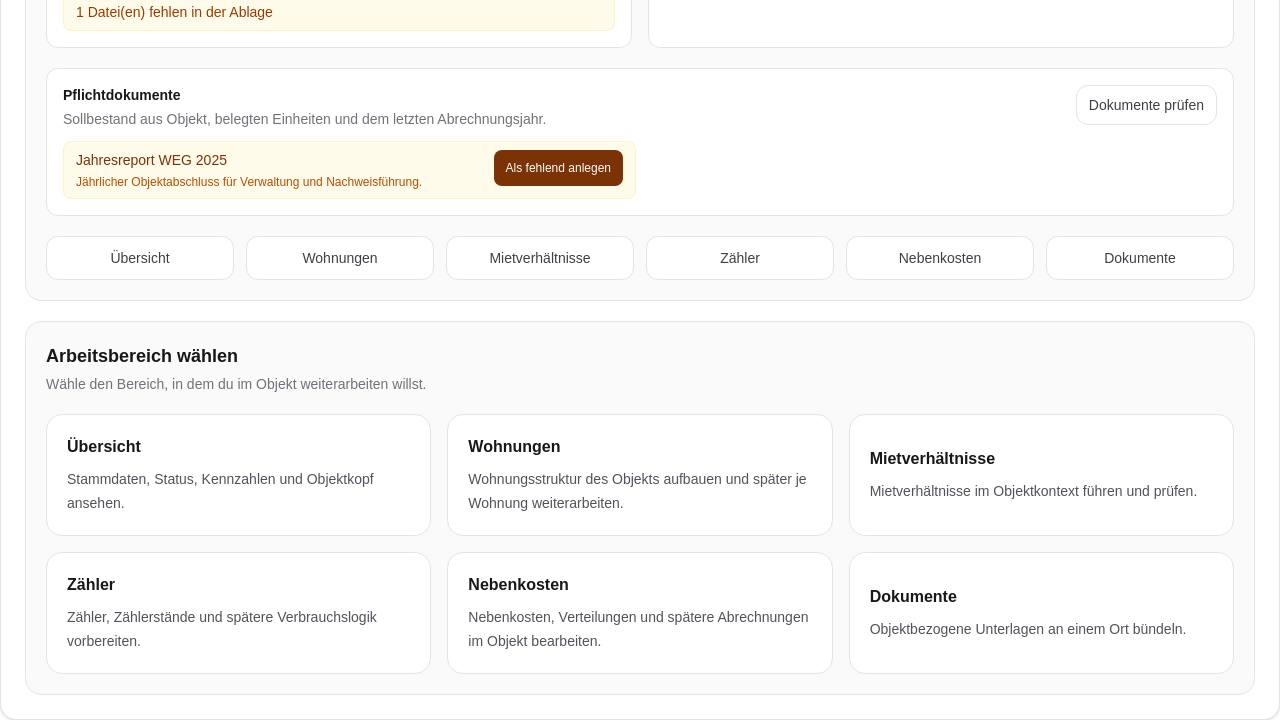
it: ObjectDetail › shows document access for utility statements inside the utilities workflow
(page scrolled)
Step 1. Click the button named "Nebenkosten Nebenkosten, Verteilungen und spätere Abrechnungen im Objekt bearbeiten." → point(640, 613), box x1=447 y1=552 x2=833 y2=674
(page scrolled)
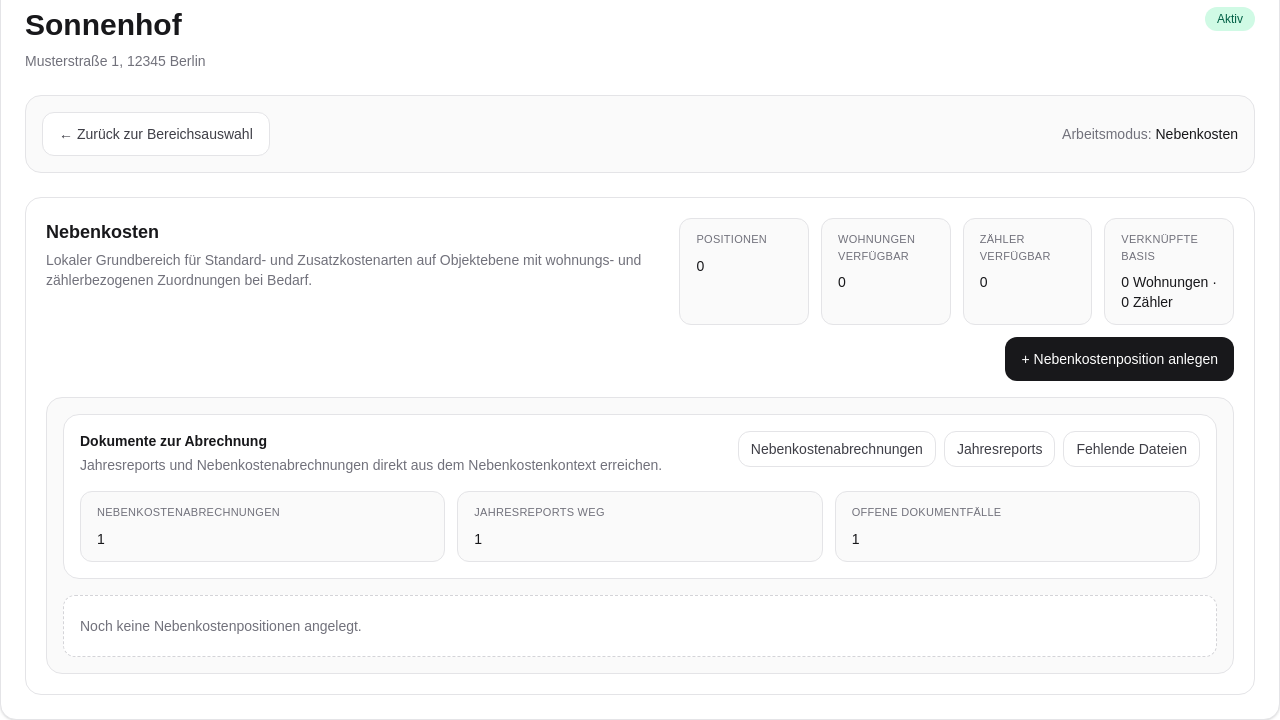
Check: the heading "Dokumente zur Abrechnung" is shown, box x1=80 y1=433 x2=267 y2=449
Check: the link "Nebenkostenabrechnungen" is shown, box x1=738 y1=431 x2=936 y2=467
Check: the text "Jahresreports WEG" is shown, box x1=474 y1=506 x2=605 y2=518
